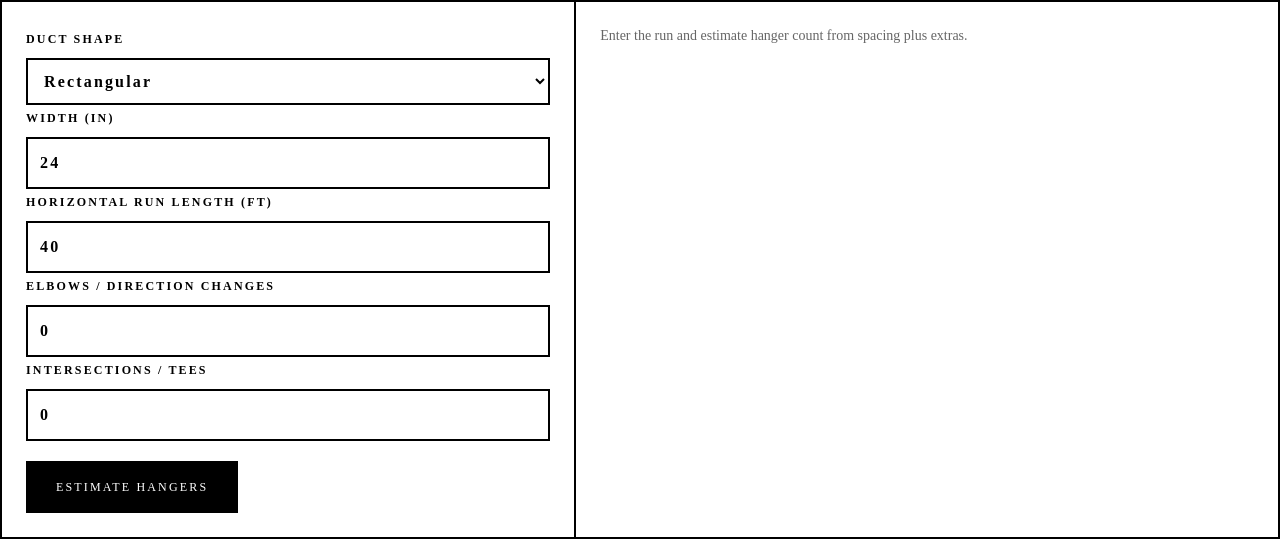
Test case: HangerSpacingCalculator › reports extra hangers when elbows sit off the regular stations
Replace the text in the field labelled "Elbows / direction changes" with "3" at (288, 331), box [26,305,550,357]
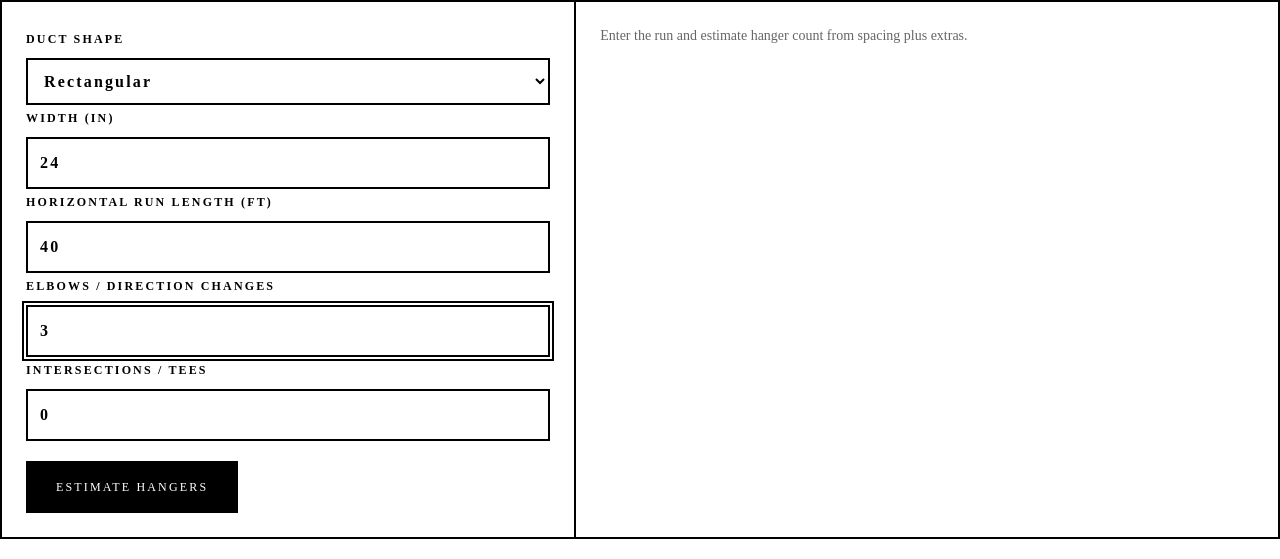
Click the button "Estimate hangers" at (132, 487), box [26,461,238,513]
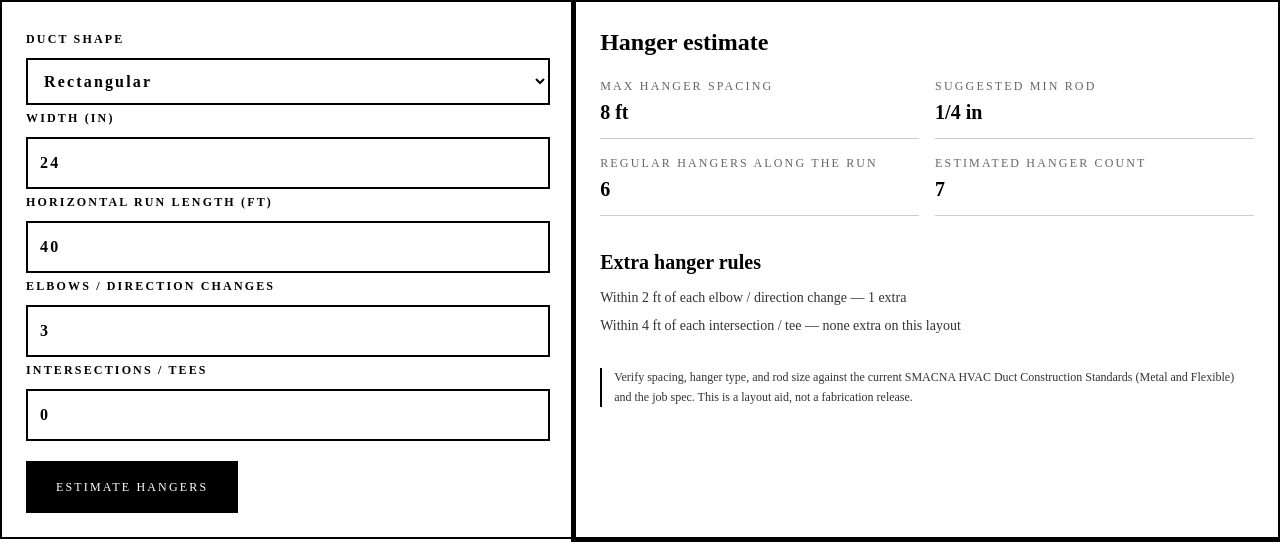
Expected: the list item "Within 2 ft of each elbow / direction change — 1 extra" is shown, [600,290,906,305]
Expected: the text "7" is shown, [935,178,945,200]
